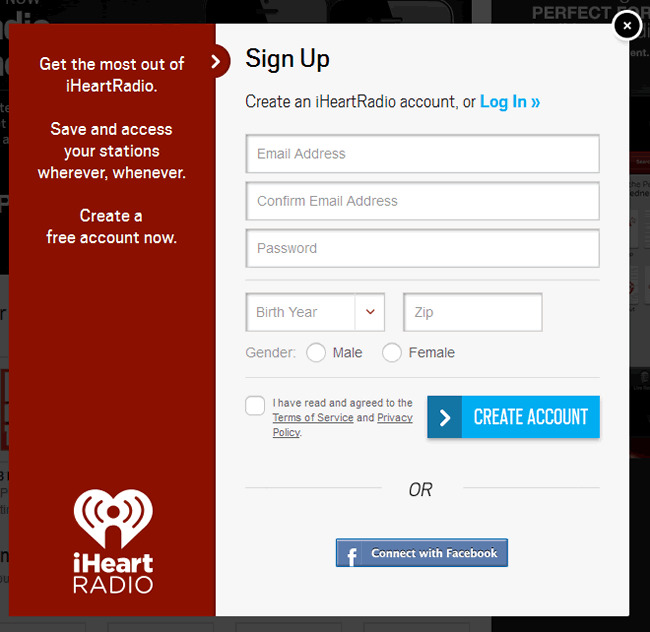_form_: (203, 63, 619, 479), (210, 177, 626, 593)
button: (426, 395, 600, 439), (334, 537, 509, 568)
checkbox: (245, 394, 268, 419)
checkbox_with_label: (242, 390, 417, 425)
field: (245, 181, 601, 222), (245, 229, 601, 269), (245, 134, 600, 174), (245, 292, 387, 333), (403, 292, 544, 333)
radio: (382, 342, 404, 362), (305, 342, 325, 362)
radio_with_label: (245, 338, 328, 365), (379, 339, 456, 365), (300, 338, 364, 365)
